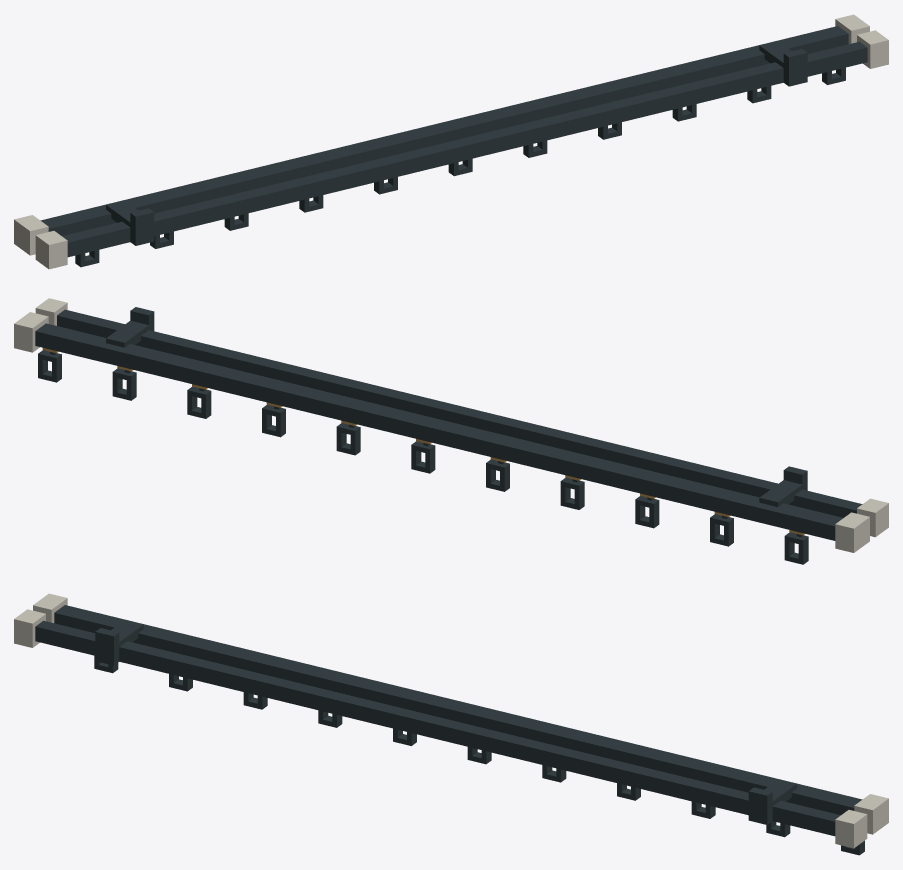
The picture shows the model from 3 angles, top to bottom: view 1: azimuth 30°, elevation 25°; view 2: azimuth 150°, elevation 25°; view 3: azimuth 330°, elevation 25°; orthographic projection.
Parts seen in each view (by area): view 1: 窗帘挂轨; view 2: 窗帘挂轨; view 3: 窗帘挂轨.
Part boxes in pixels (<box>): 窗帘挂轨: <box>14,14,888,269</box>; 窗帘挂轨: <box>14,298,888,564</box>; 窗帘挂轨: <box>14,593,888,855</box>.
Bounding box in the file's own units: 1.8 × 0.13 × 0.14.
Materials: 3 (3 with a texture image).
